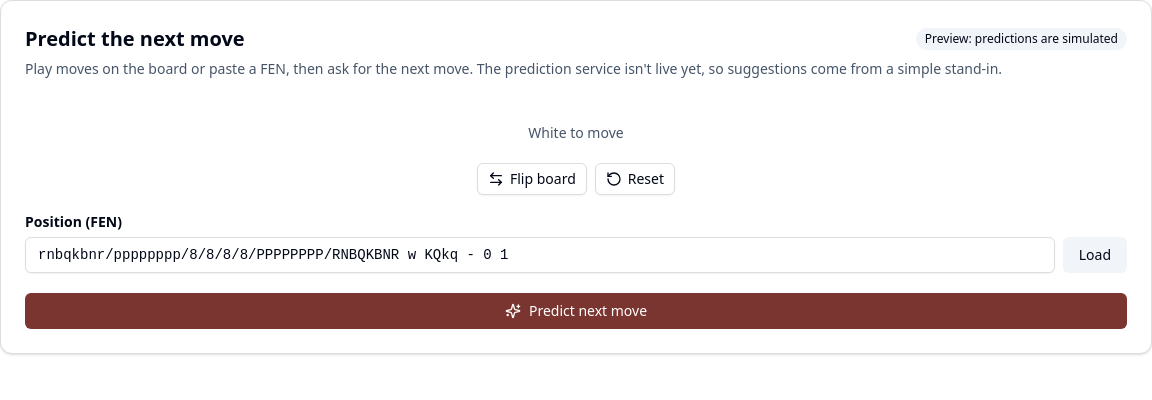
Test: PositionPredictor › rejects an invalid FEN without touching the board
Replace the text in the field labelled "Position (FEN)" with "definitely not a fen" at (540,255), box top-left (25, 237), bottom-right (1055, 273)
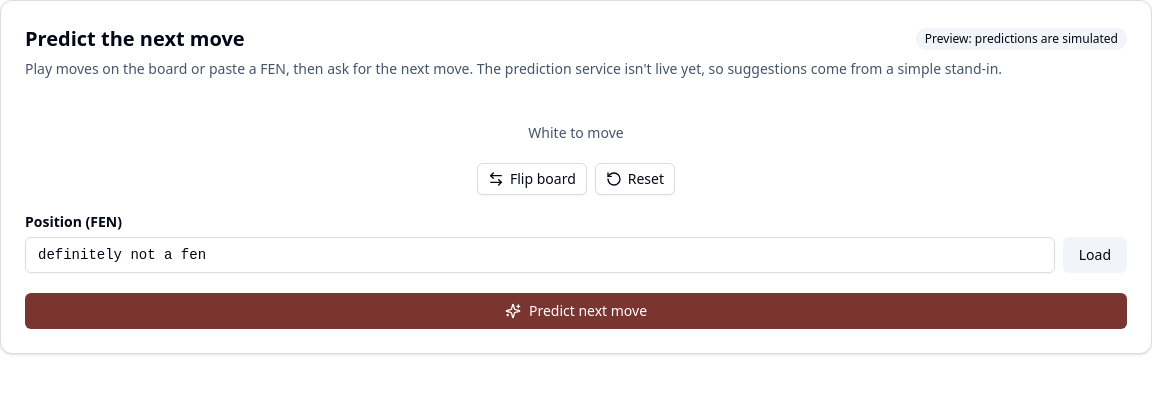
Submit the form, box top-left (25, 215), bottom-right (1127, 273)
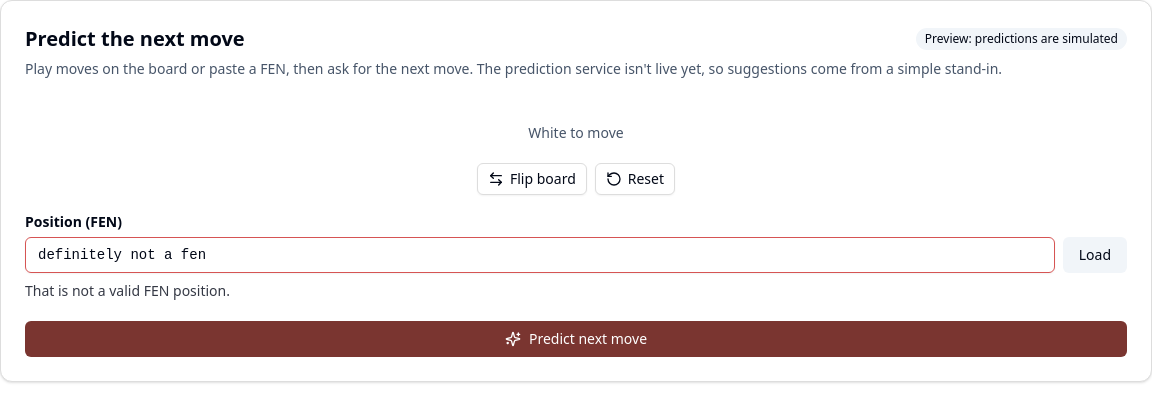
Check: the message "That is not a valid FEN position." is shown, box top-left (25, 281), bottom-right (230, 300)
